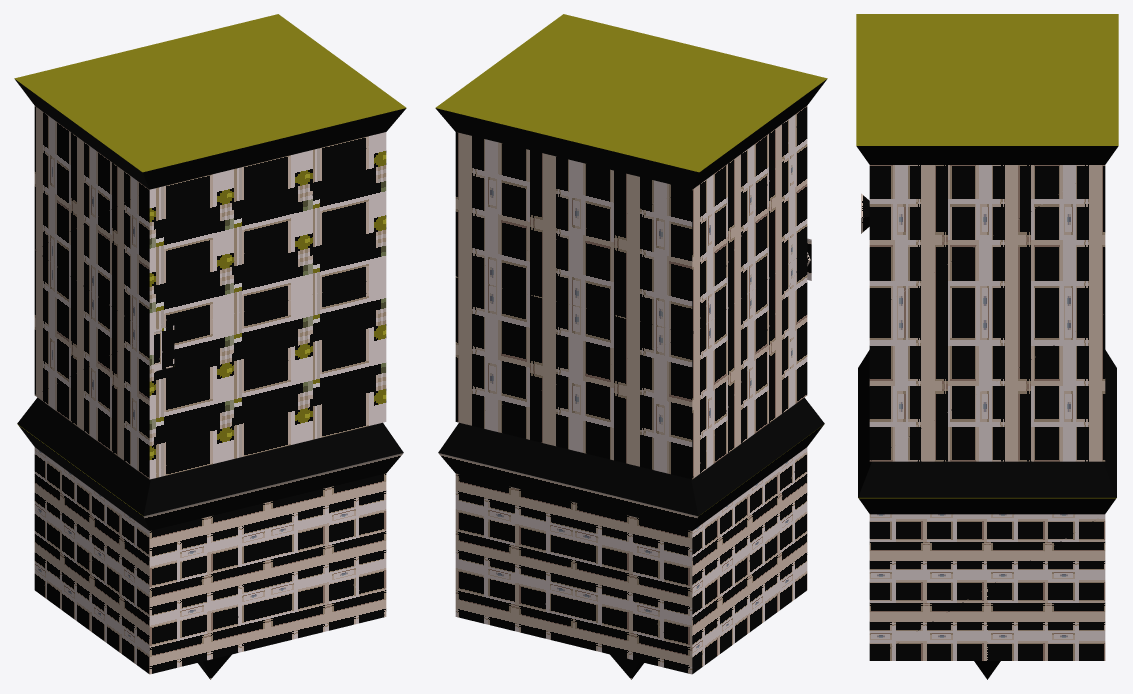
3 renders of one model, left to right at view 1: azimuth 30°, elevation 25°; view 2: azimuth 150°, elevation 25°; view 3: azimuth 270°, elevation 25°, orthographic. The views are drawn at different scales.
Visible parts, largest first — view 1: 3817kg_sh1_40; view 2: 3817kg_sh1_40; view 3: 3817kg_sh1_40.
Boxes of the visible parts, bbox=[...] form: 3817kg_sh1_40: bbox=[14, 14, 406, 679]; 3817kg_sh1_40: bbox=[435, 14, 827, 679]; 3817kg_sh1_40: bbox=[856, 14, 1118, 679].
Size of the model in its own units: 0.9502 by 2.02 by 0.7998.
Materials: 3 (3 with a texture image).
